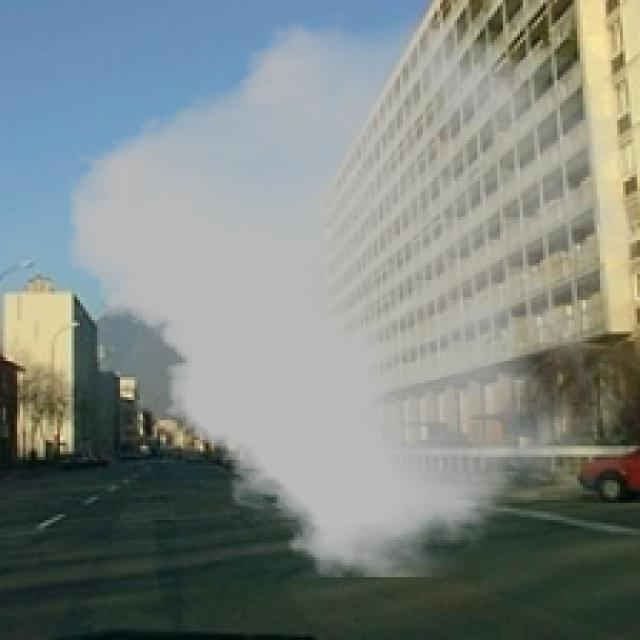smoke: (69, 14, 637, 577)
